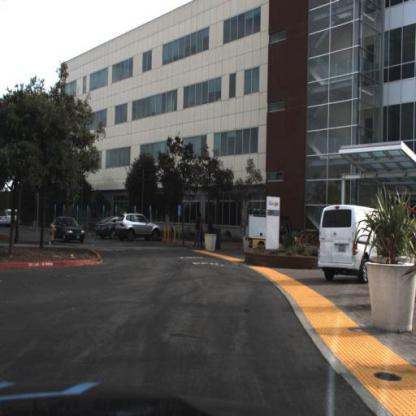car: (315, 202, 390, 287), (246, 210, 296, 252), (117, 211, 165, 243), (49, 212, 87, 244), (94, 213, 118, 244)
pedestrian: (195, 213, 203, 248)
truck: (243, 211, 291, 254)
